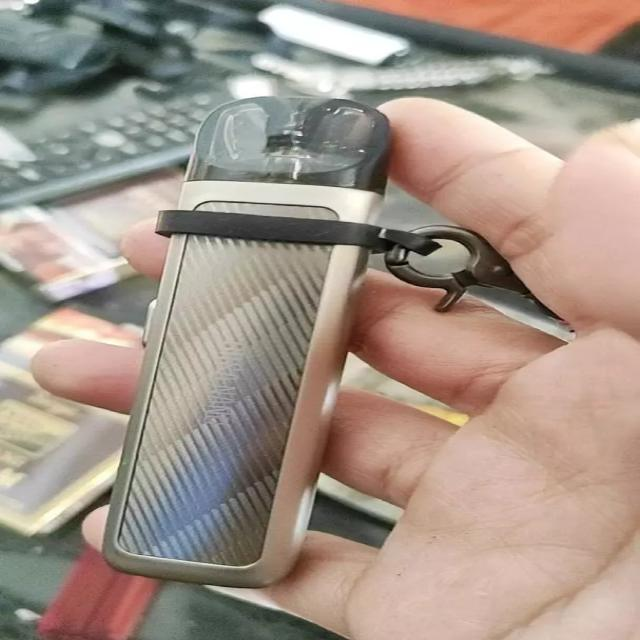Hazard: (100, 93, 385, 590)
